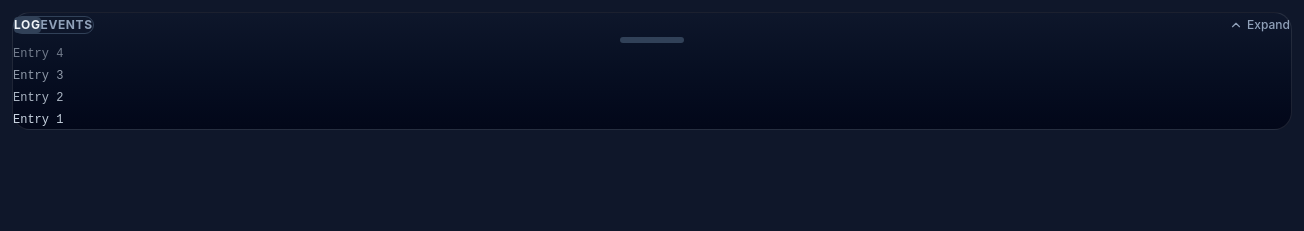
Test: CombatLog › reveals more entries when expanded or resized
expect the text "Entry 5" is not shown: met
Click the button "Expand" at {"x": 1260, "y": 25}, box [1228,13,1291,37]
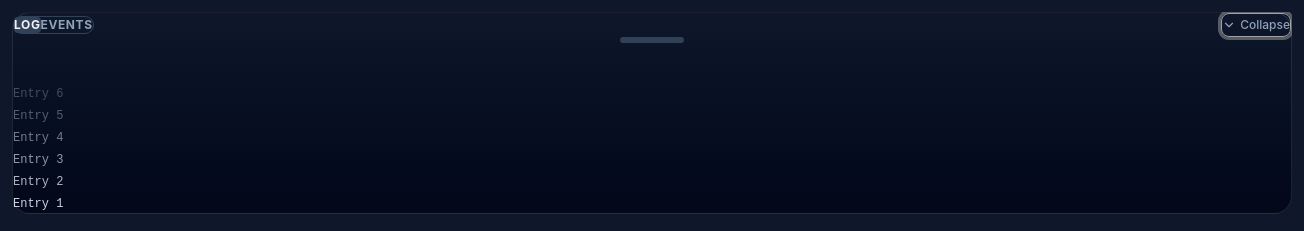
expect the button "Collapse" is shown: met
expect the text "Entry 5" is shown: met, box [13,109,63,123]
expect the text "Entry 6" is shown: met, box [13,87,63,101]
Click the button "Collapse" at {"x": 1256, "y": 25}, box [1221,13,1291,37]
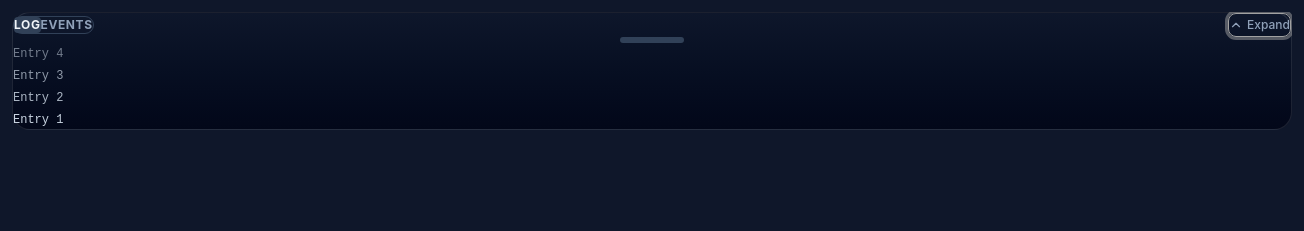
expect the text "Entry 5" is gone: met
Press the mouse on the button named "resize combat log" at {"x": 652, "y": 40}, box [13,37,1291,43]
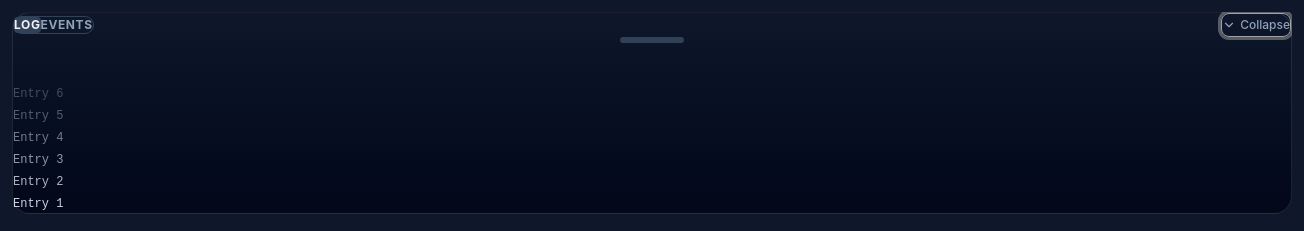
expect the text "Entry 5" is shown: met, box [13,109,63,123]
expect the text "Entry 6" is shown: met, box [13,87,63,101]
